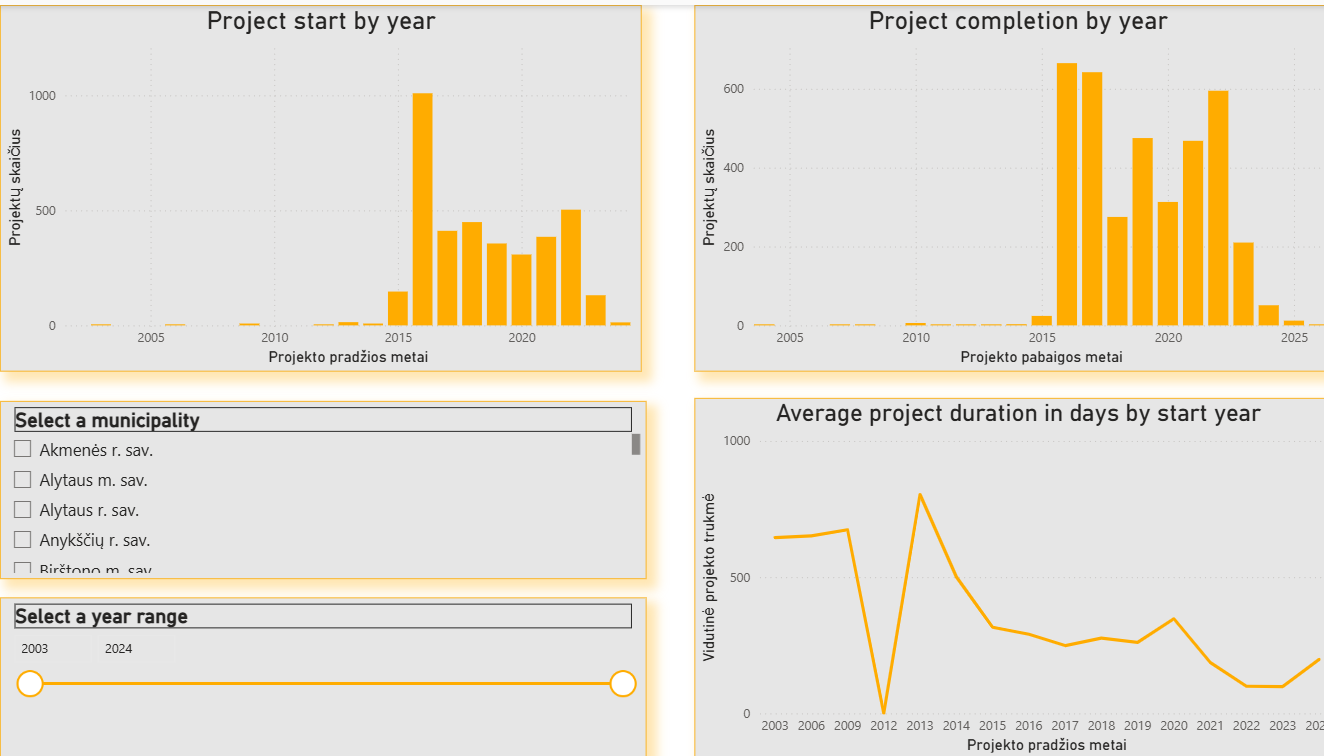

This screenshot's page, from the dashboard's own definition file:
{"tool":"powerbi","page":{"name":"Analysis of terms","canvas":[1280,720],"ordinal":1},"visuals":[{"type":"clusteredColumnChart","title":"Project start by year","fields":{"Category":["KelioDarbuProjektas.Projekto pradžios metai"],"Y":["KelioDarbuProjektas.Projektų skaičius"]},"box":[0,0,612.4,349.9],"z":0},{"type":"clusteredColumnChart","title":"Project completion by year","fields":{"Category":["KelioDarbuProjektas.Projekto pabaigos metai"],"Y":["KelioDarbuProjektas.Projektų skaičius"]},"box":[663.3,0,617.2,349.9],"z":1000},{"type":"slicer","fields":{"Values":["KelioDarbuProjektas.obj_savivaldybes.1"]},"box":[0,378.6,617.2,170.2],"z":2000},{"type":"slicer","fields":{"Values":["KelioDarbuProjektas.Projekto pradžios metai"]},"box":[0,566.3,617.2,154.3],"z":3000},{"type":"lineChart","title":"Average project duration in days by start year","fields":{"Category":["KelioDarbuProjektas.Projekto pradžios metai"],"Y":["KelioDarbuProjektas.Vidutinė projekto trukmė"]},"box":[663.3,375.4,617.2,345.2],"z":4000}]}

Visuals, with their boxes in screenshot pixels (x1, y1, x2, y2), scaled from the page's 1280x720 canvas onto the 1324x756 screenshot:
"Project start by year" clusteredColumnChart: 0, 0, 633, 367
"Project completion by year" clusteredColumnChart: 686, 0, 1323, 367
slicer - KelioDarbuProjektas.obj_savivaldybes.1: 0, 398, 638, 576
slicer - KelioDarbuProjektas.Projekto pradžios metai: 0, 595, 638, 755
"Average project duration in days by start year" lineChart: 686, 394, 1323, 755
